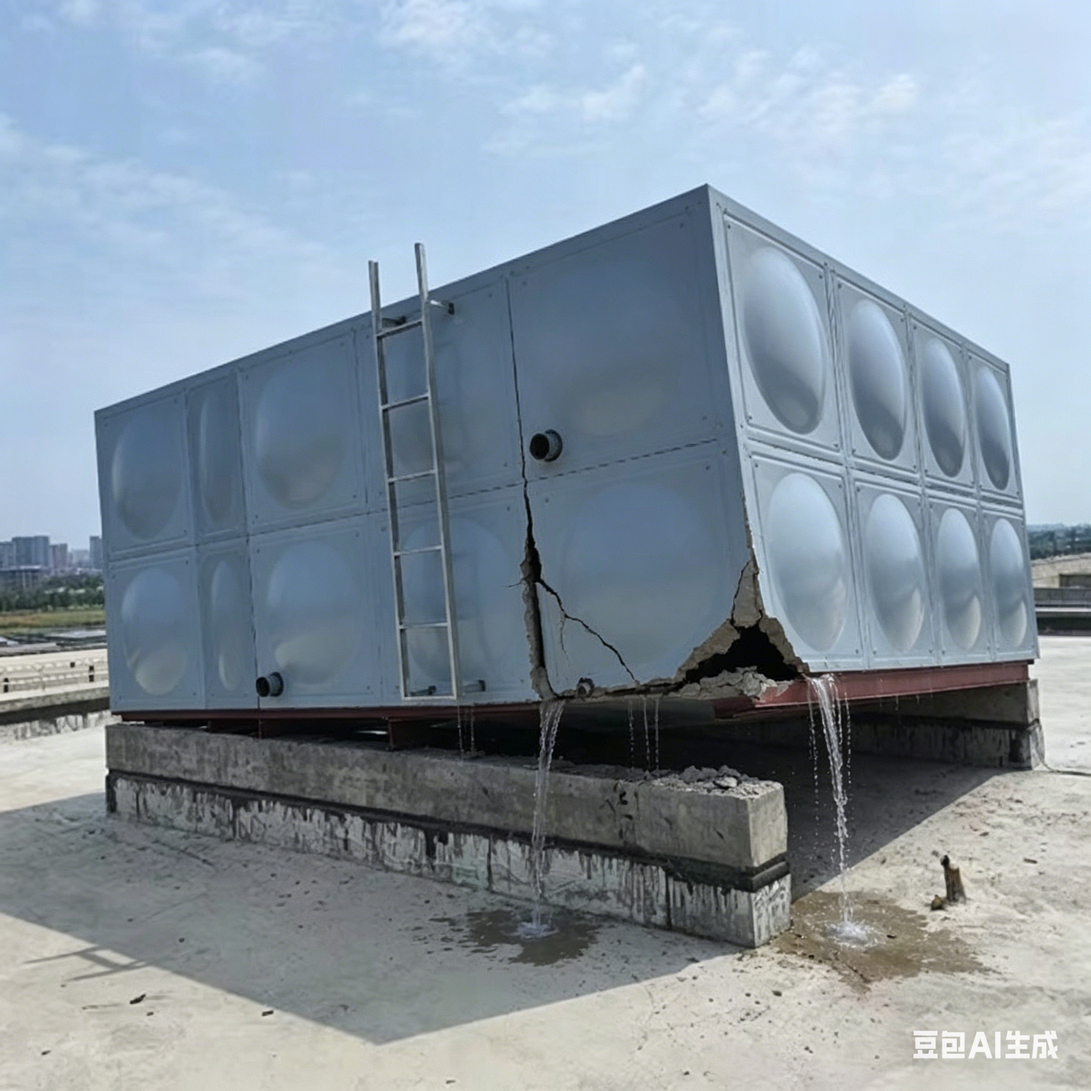Leakage: (798, 676, 896, 965), (501, 700, 590, 957)
